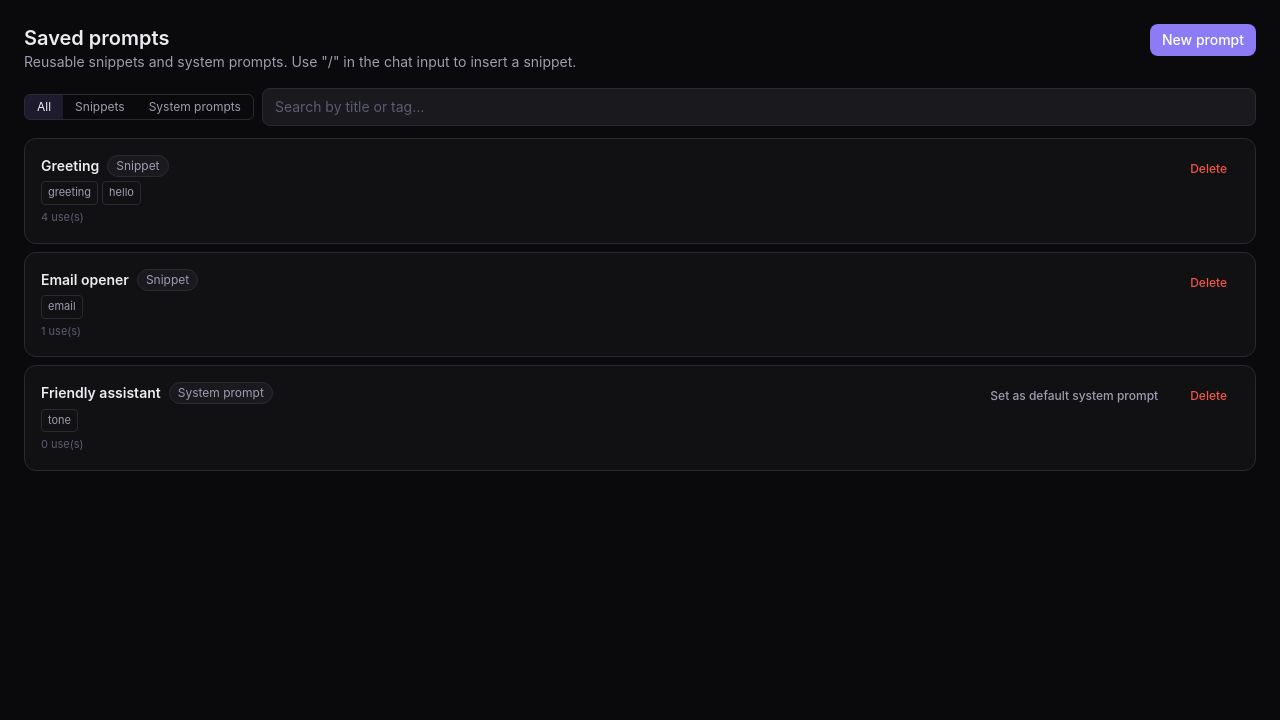
Test case: PromptLibraryPanel edit modal › New prompt button opens the modal in create mode
Expected: the list item with test id "prompt-row-snip-a" is shown, [24, 138, 1256, 244]
Step 1. Click the button with test id "prompt-new-button" → (1203, 40), box [1150, 24, 1256, 56]
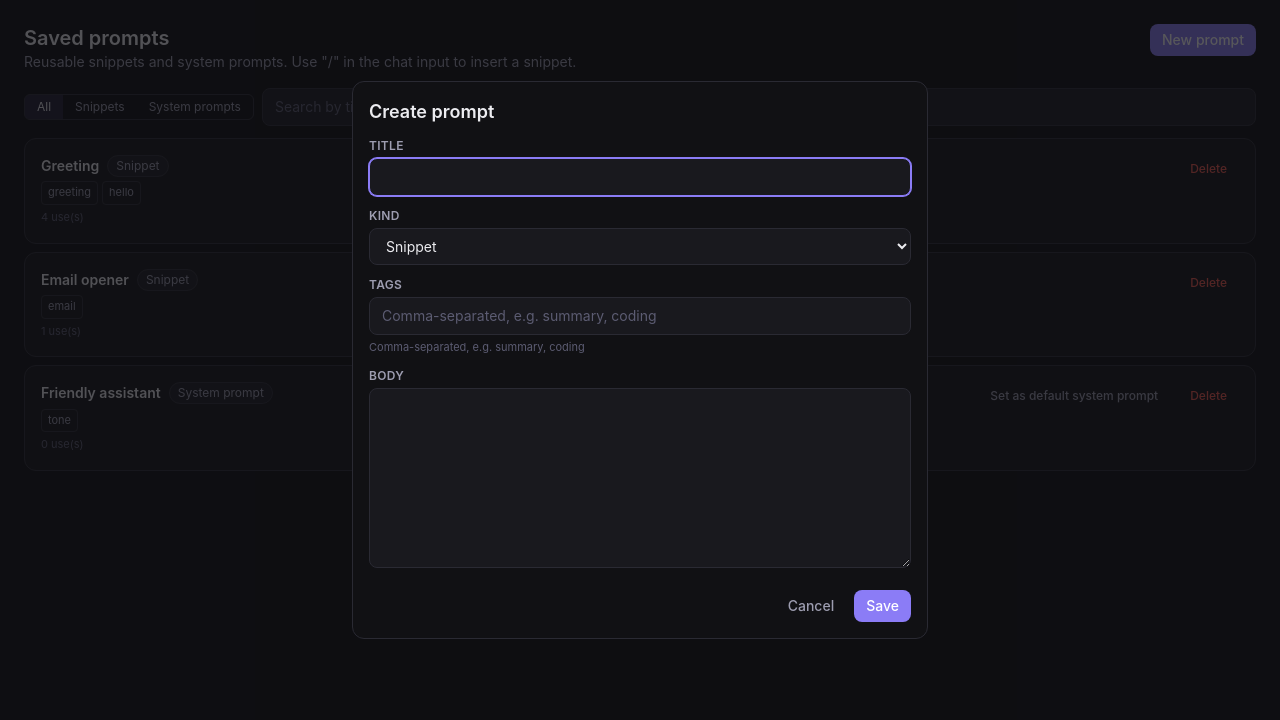
Step 2. Type "Fresh" into the field with test id "prompt-edit-title" → (640, 176), box [369, 158, 911, 196]
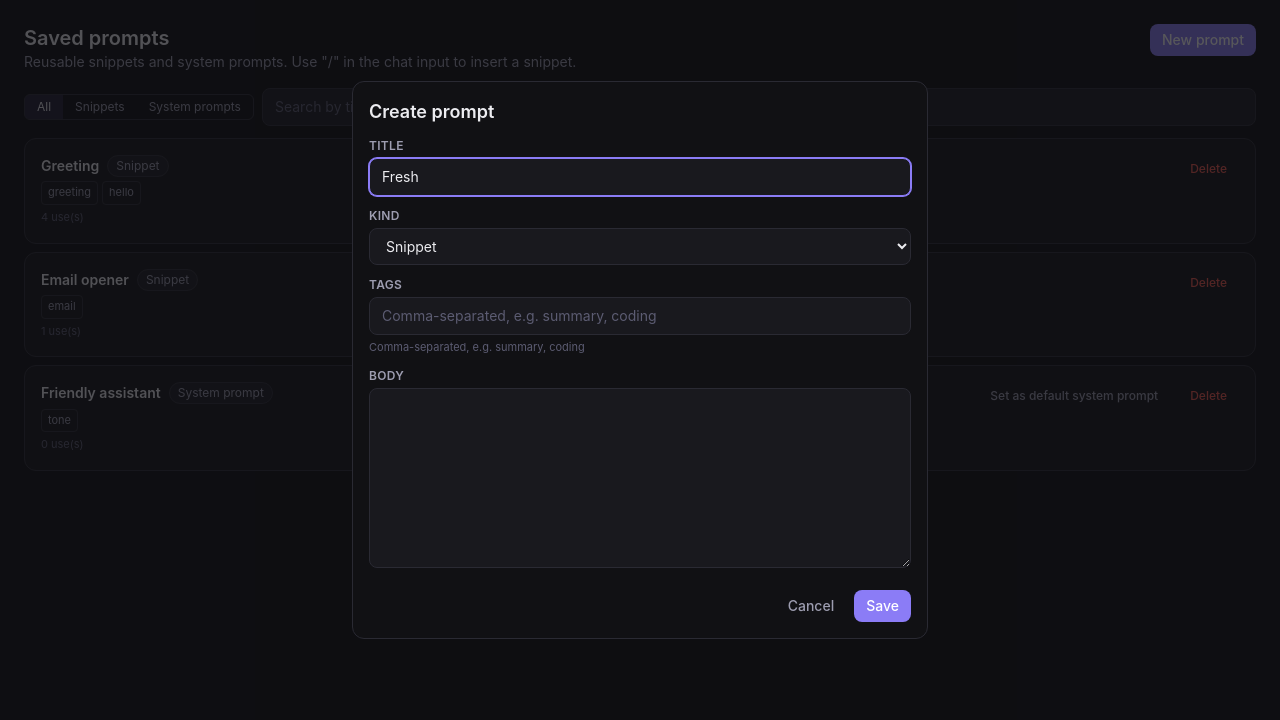
Step 3. Type "Fresh body" into the text box with test id "prompt-edit-body" → (640, 478), box [369, 388, 911, 568]
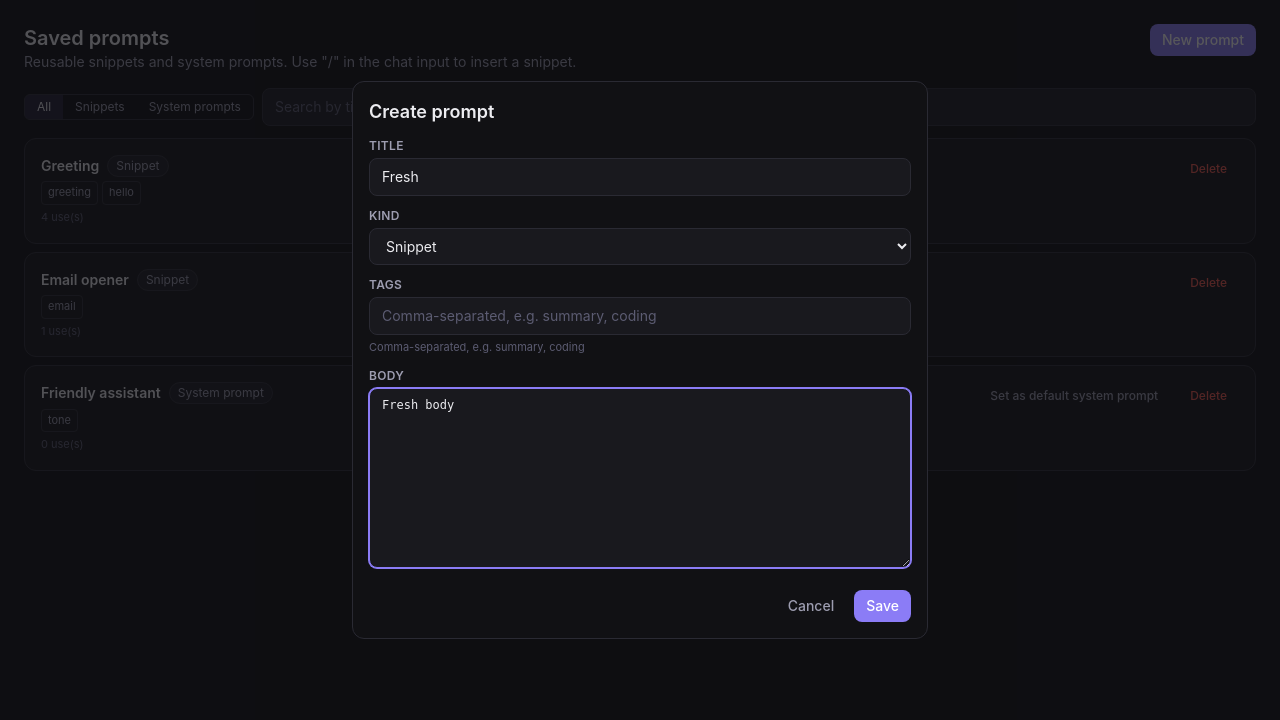
Step 4. Click the button with test id "prompt-edit-save" → (883, 606), box [854, 590, 911, 622]
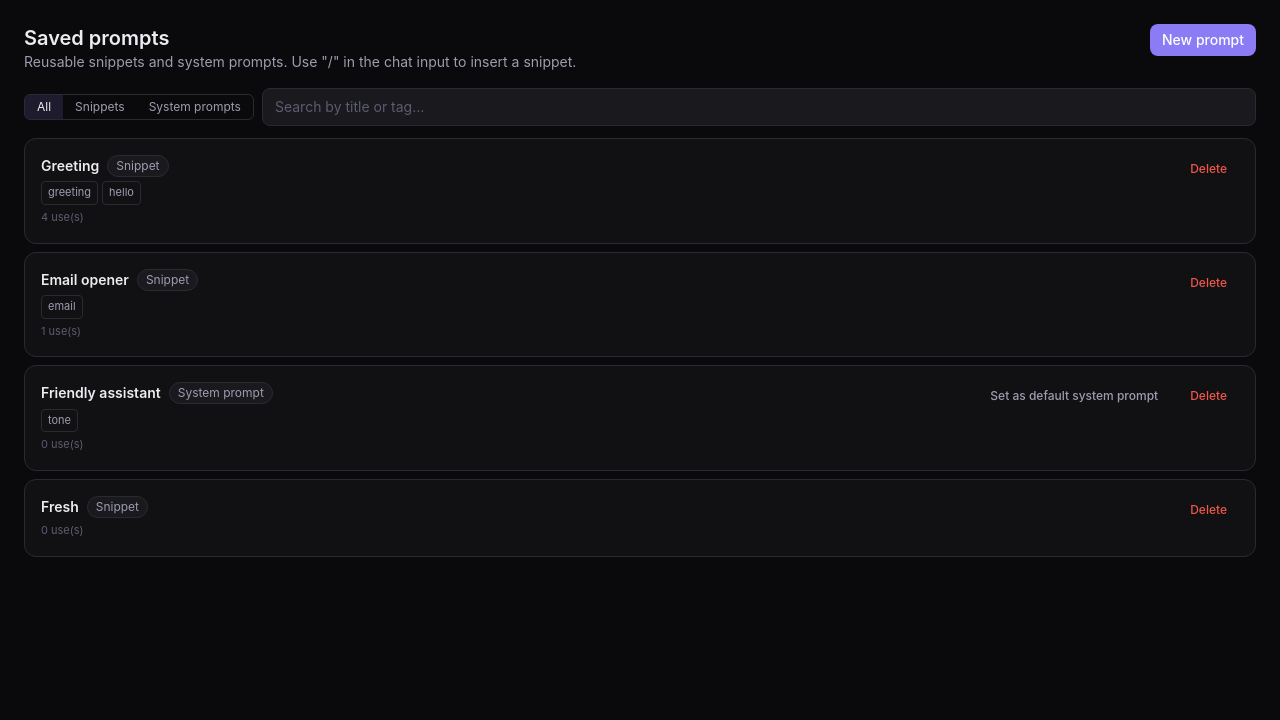
Now the heading "Fresh" is shown, box [41, 496, 79, 518]
